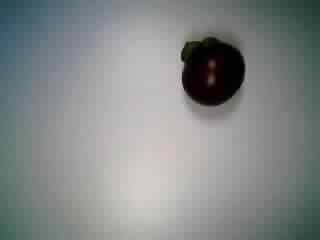mangosteen: (174, 32, 248, 112)
